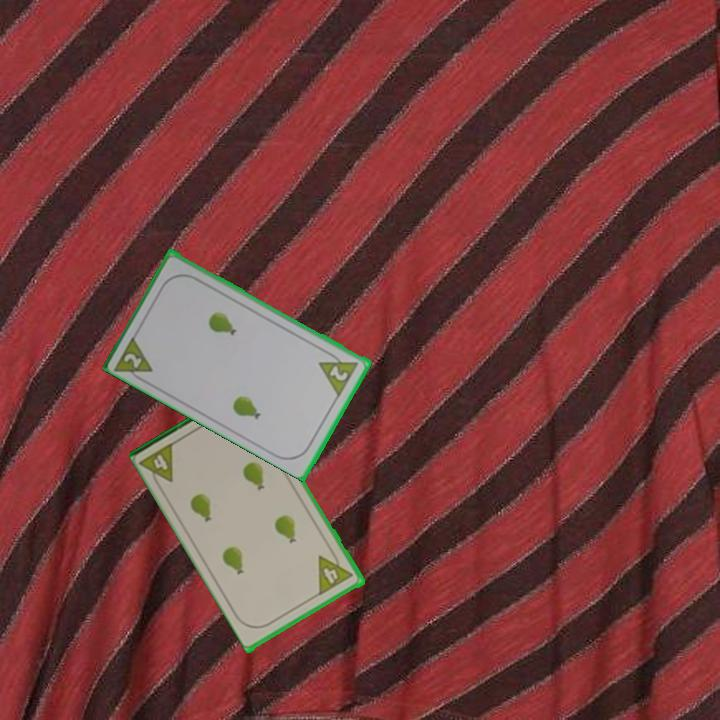2p: (111, 331, 156, 387), (315, 346, 362, 398)
4p: (137, 438, 178, 492), (315, 546, 357, 597)
